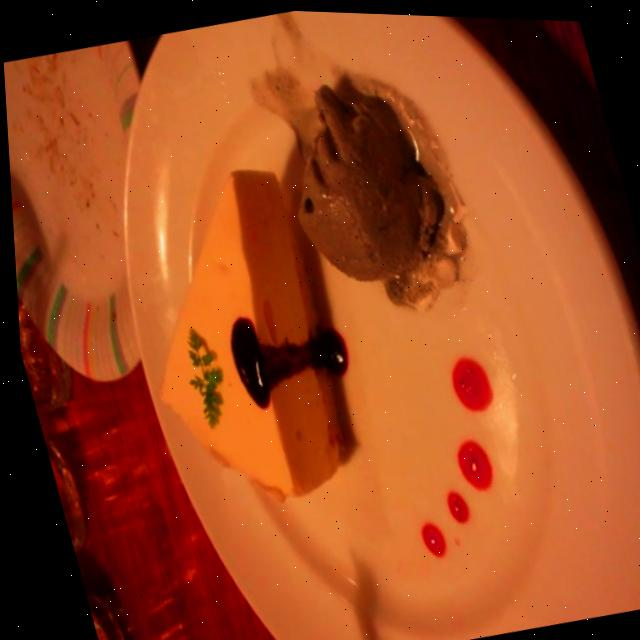烧串烤肉: (27, 1, 529, 640)
